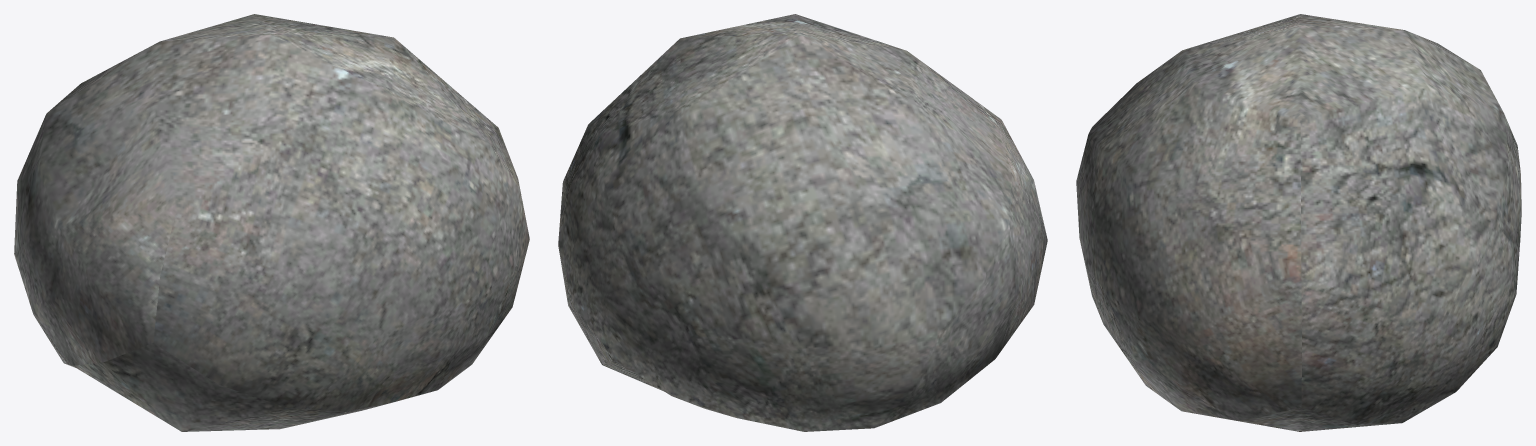
Rendered from rock12.glb.
3 renders of one model, left to right at view 1: azimuth 30°, elevation 25°; view 2: azimuth 150°, elevation 25°; view 3: azimuth 270°, elevation 25°, orthographic. The views are drawn at different scales.
Parts seen in each view (by area): view 1: rock15; view 2: rock15; view 3: rock15.
Part boxes in pixels (x1=…): rock15: x1=14, y1=14, x2=529, y2=431; rock15: x1=558, y1=14, x2=1047, y2=431; rock15: x1=1076, y1=14, x2=1521, y2=431.
Bounding box in the file's own units: 1.46 × 1.13 × 1.28.
Materials: 1 (1 with a texture image).
